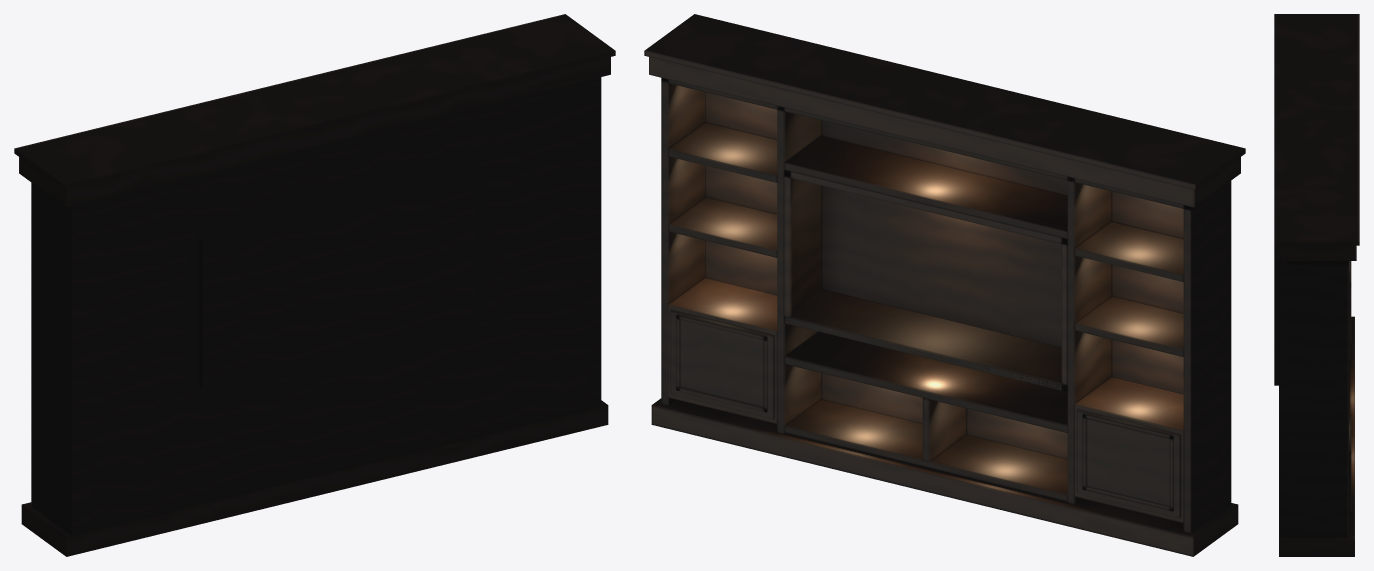
Rendered from media-wall-Cvr4SUhC.glb.
3 views of the same model, side by side, from view 1: azimuth 30°, elevation 25°; view 2: azimuth 150°, elevation 25°; view 3: azimuth 270°, elevation 25° (orthographic). The views are drawn at different scales.
Parts seen in each view (by area): view 1: MediaWall; view 2: MediaWall; view 3: MediaWall.
Boxes of the visible parts, x1=… form: MediaWall: x1=14, y1=14, x2=615, y2=556; MediaWall: x1=644, y1=14, x2=1245, y2=556; MediaWall: x1=1274, y1=14, x2=1359, y2=556.
Size of the model in its own units: 3.54 by 2.3 by 0.56.
1 material, 1 textured.
